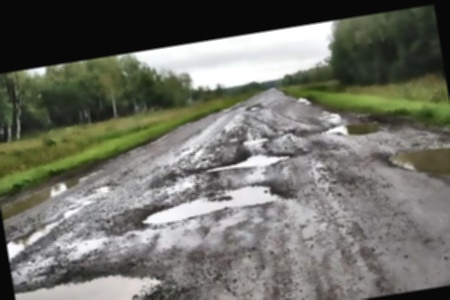pothole: (135, 175, 297, 228), (13, 260, 171, 300), (383, 139, 450, 185), (200, 148, 293, 177), (320, 114, 382, 143), (240, 134, 271, 147), (294, 94, 311, 106)
